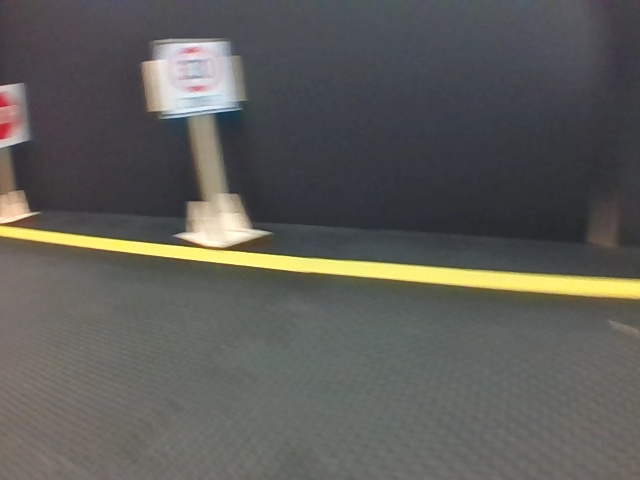30: (154, 39, 236, 113)
stop: (1, 85, 24, 143)
